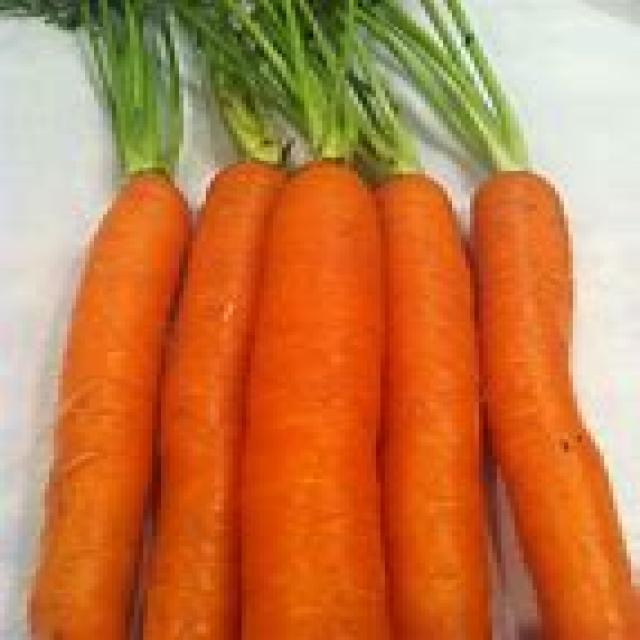carrot: (471, 172, 639, 639), (29, 169, 193, 639), (235, 161, 395, 639), (147, 163, 298, 639), (383, 179, 491, 639)
